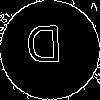D: (25, 25, 63, 73)
